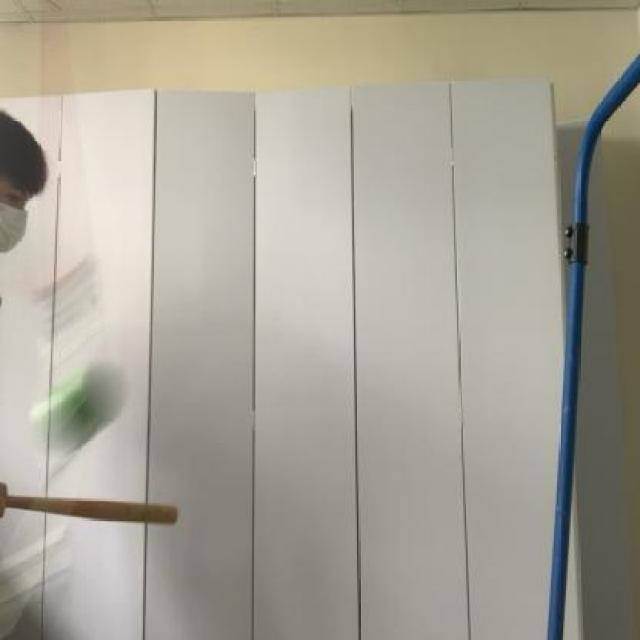baseball: (13, 348, 138, 474)
